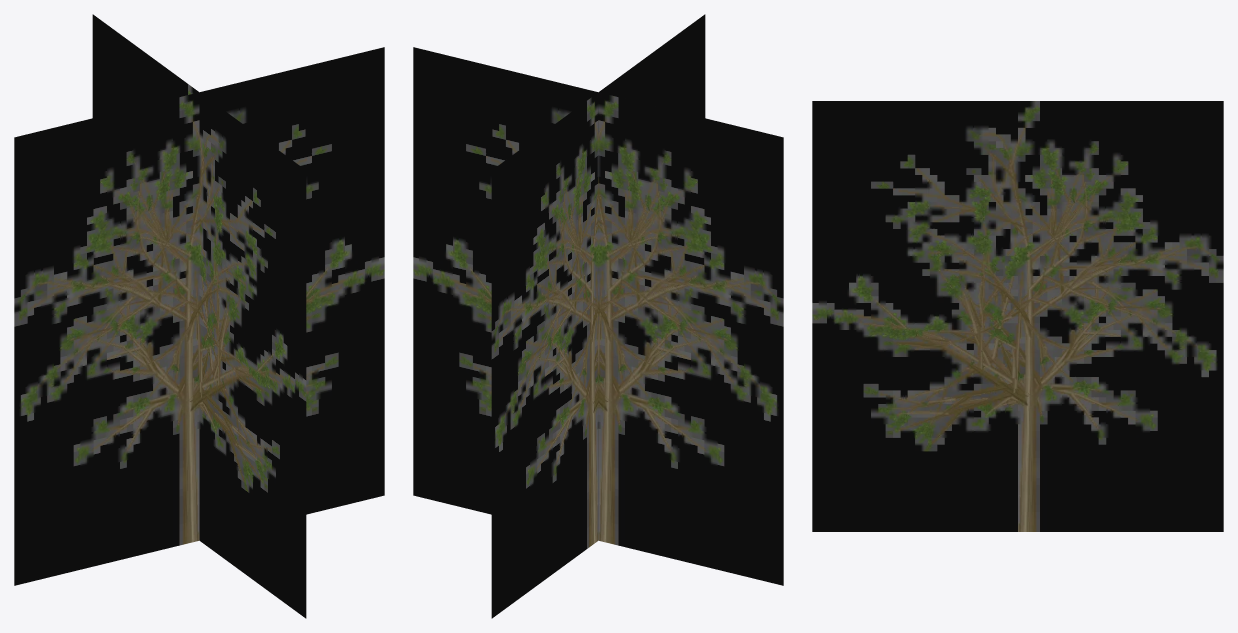
File: dead_oak_far.glb
3 renders of one model, left to right at view 1: azimuth 30°, elevation 25°; view 2: azimuth 150°, elevation 25°; view 3: azimuth 270°, elevation 25°, orthographic. The views are drawn at different scales.
Visible parts, largest first — view 1: impostor; view 2: impostor; view 3: impostor.
Part boxes in pixels (bbox=[...]): impostor: bbox=[14, 14, 384, 618]; impostor: bbox=[413, 14, 783, 618]; impostor: bbox=[812, 101, 1223, 531].
Size of the model in its own units: 4.32 by 5 by 4.32.
Materials: 1 (1 with a texture image).
